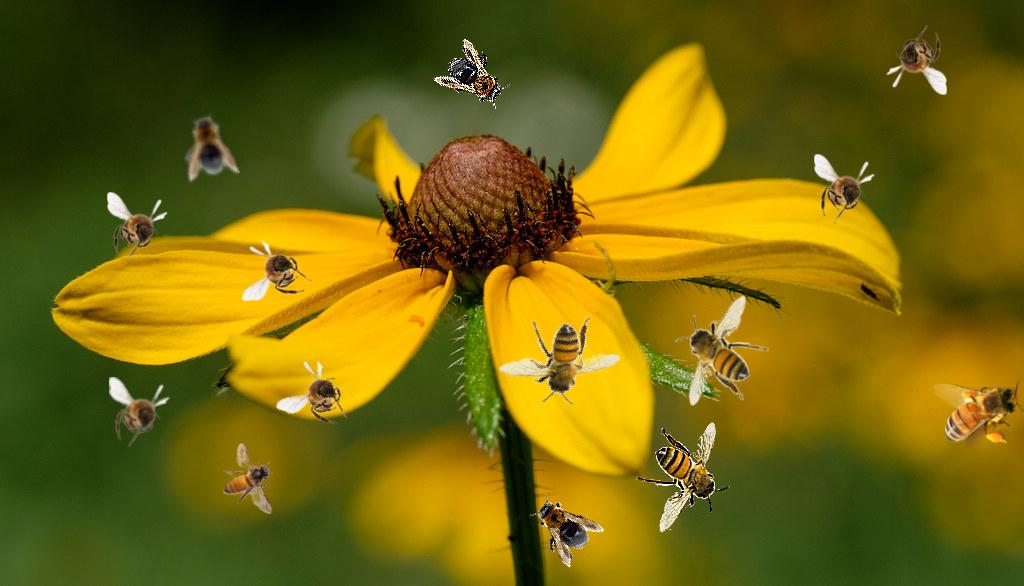Bee: (485, 291, 630, 429), (675, 295, 769, 406), (636, 422, 730, 533), (275, 351, 364, 437), (519, 485, 605, 569), (433, 37, 519, 119), (932, 379, 1024, 447), (174, 107, 240, 185), (242, 240, 312, 301), (107, 192, 168, 262), (886, 25, 947, 95), (814, 154, 875, 224), (109, 377, 170, 447), (223, 443, 273, 514)
